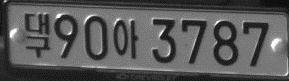0: (83, 15, 108, 60)
3: (151, 18, 176, 63)
7: (180, 19, 207, 64), (242, 21, 268, 67)
8: (212, 20, 239, 65)
9: (54, 14, 78, 58)
대구_V: (24, 12, 50, 58)
아: (112, 19, 139, 59)
